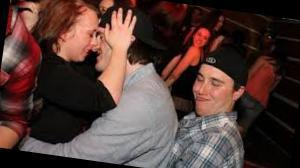Drunk: (193, 67, 229, 113)
